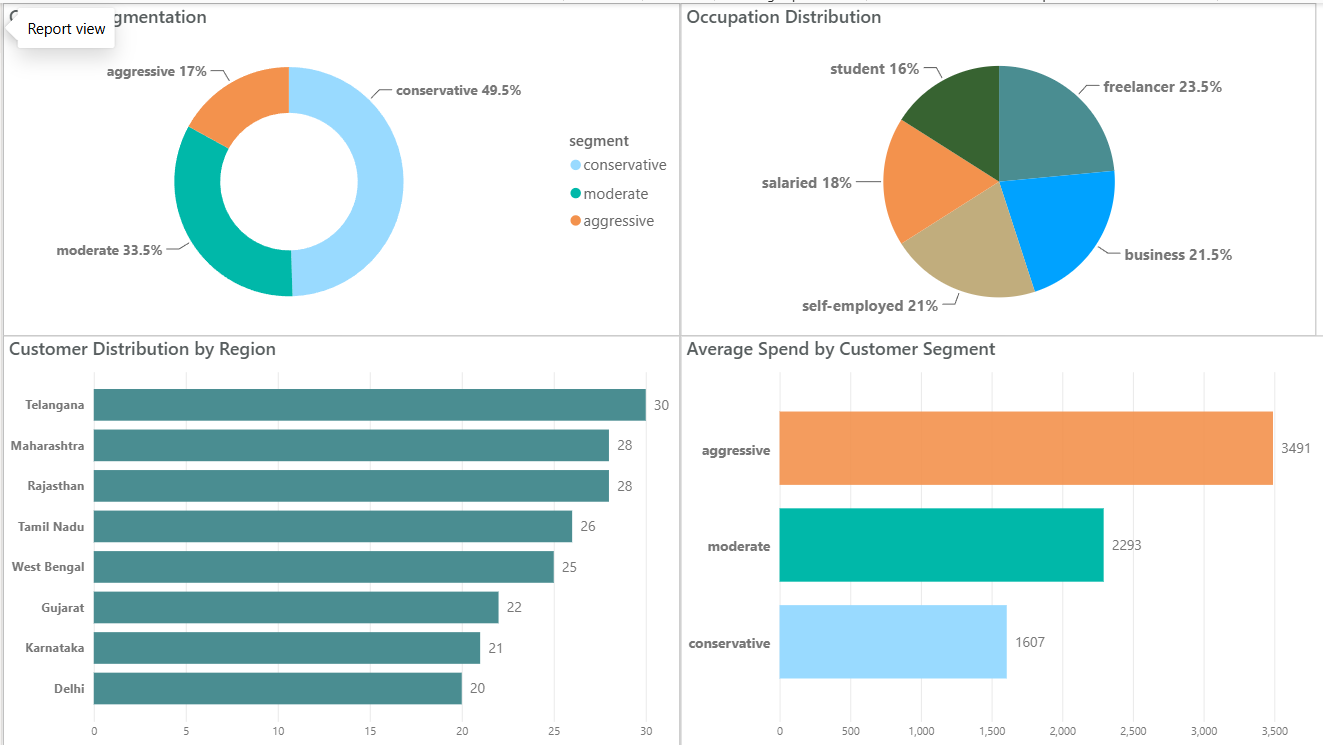

The dashboard page shown, as its layout file describes it:
{"tool":"powerbi","page":{"name":"customer intelligence","canvas":[1280,720],"ordinal":1},"visuals":[{"type":"donutChart","title":"Customer Segmentation","fields":{"Category":["Users.segment"],"Y":["Count(Users.customer_id)"]},"box":[0,0,653.8,321.2],"z":0},{"type":"clusteredBarChart","title":"Customer Distribution by Region","fields":{"Category":["Users.region"],"Y":["CountNonNull(Users.customer_id)"]},"box":[0,321.2,653.8,398.8],"z":1000},{"type":"pieChart","title":"Occupation Distribution","fields":{"Category":["Users.occupation"],"Y":["CountNonNull(Users.customer_id)"]},"box":[653.8,0,613.8,321.2],"z":2000},{"type":"clusteredBarChart","title":"Average Spend by Customer Segment","fields":{"Category":["Users.segment"],"Y":["Avg(Transations.amount)"]},"box":[653.8,321.2,626.2,398.8],"z":4000}]}

Visuals, with their boxes on the page's 1280x720 design canvas (x1, y1, x2, y2). These are canvas units, not pixel positions in the 1323x745 screenshot, which may show the page scaled, cropped or inside an application window:
"Customer Segmentation" donutChart: <bbox>0, 0, 654, 321</bbox>
"Customer Distribution by Region" clusteredBarChart: <bbox>0, 321, 654, 720</bbox>
"Occupation Distribution" pieChart: <bbox>654, 0, 1268, 321</bbox>
"Average Spend by Customer Segment" clusteredBarChart: <bbox>654, 321, 1280, 720</bbox>
